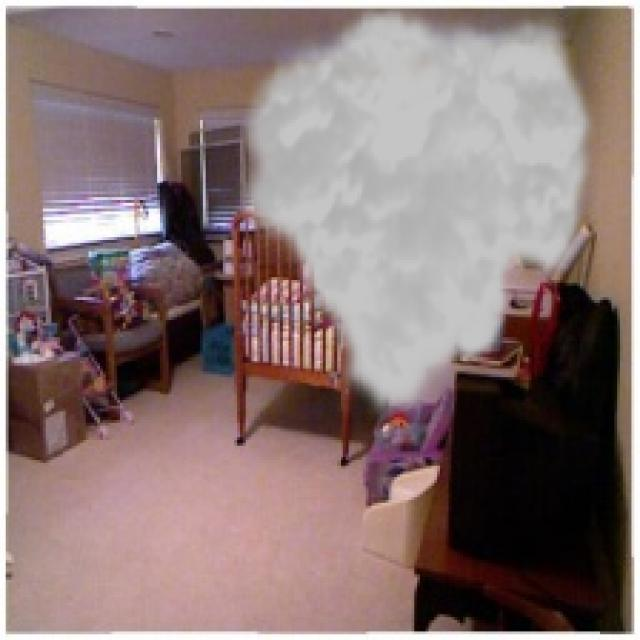Smoke: (231, 3, 600, 423)
